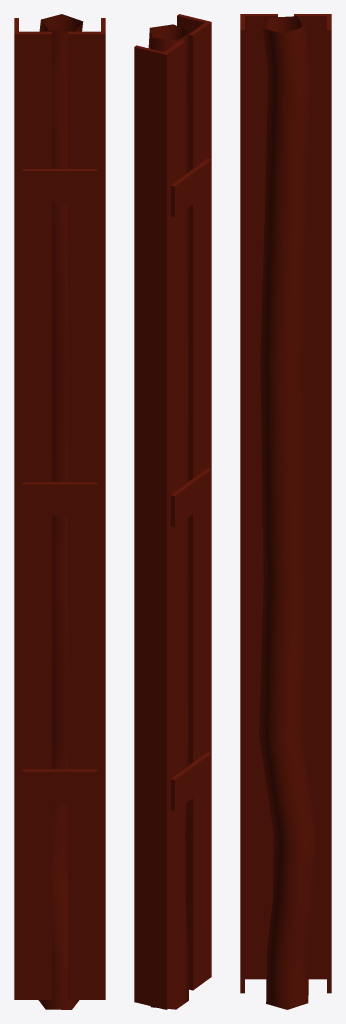
File: wire1.FBX
3 views of the same model, side by side, from view 1: azimuth 90°, elevation 25°; view 2: azimuth 150°, elevation 25°; view 3: azimuth 270°, elevation 25° (orthographic).
Parts seen in each view (by area): view 1: wire1; view 2: wire1; view 3: wire1.
Part boxes in pixels (bbox=[...]): wire1: bbox=[14, 14, 105, 1009]; wire1: bbox=[134, 14, 211, 1009]; wire1: bbox=[240, 14, 331, 1009].
Bounding box in the file's own units: 5.9 × 122 × 10.33.
